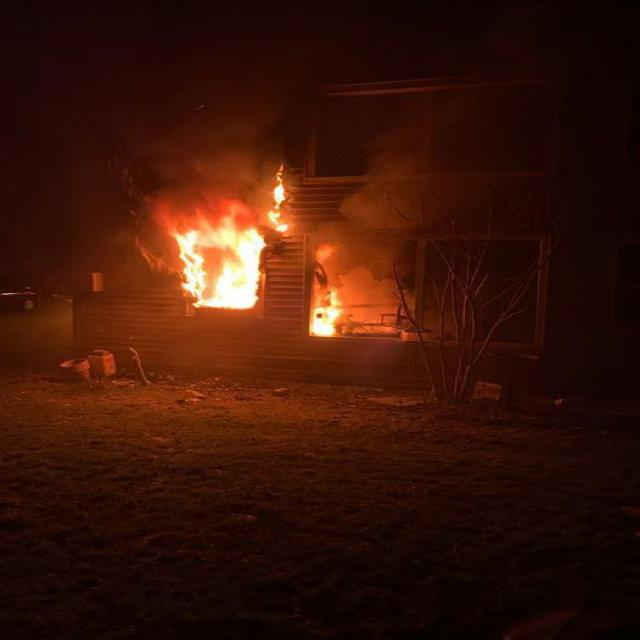fire: (134, 158, 279, 313)
